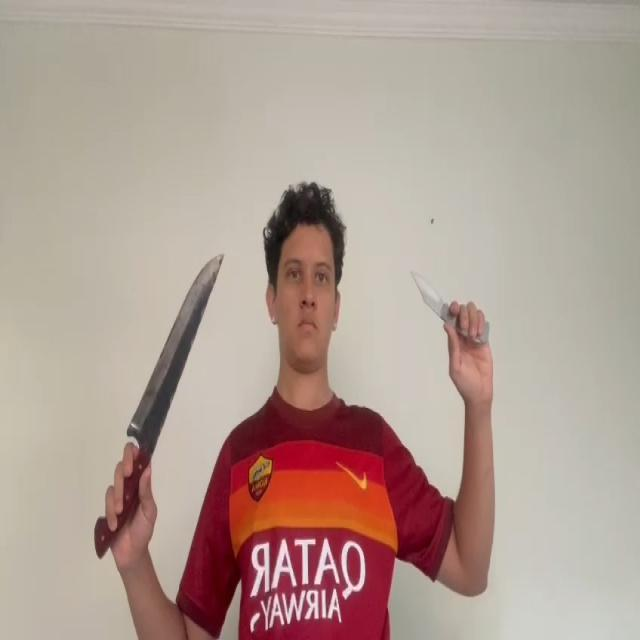knife: (128, 251, 226, 434), (410, 266, 442, 318)
